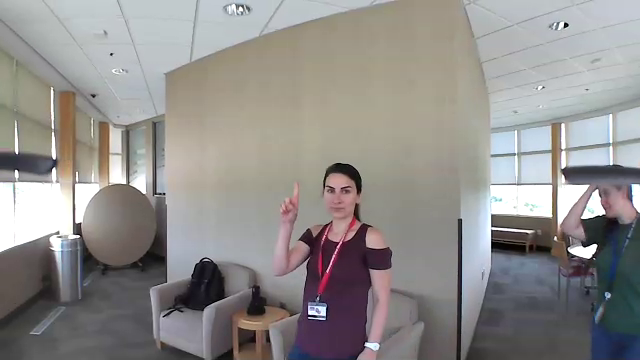up: (275, 179, 305, 230)
